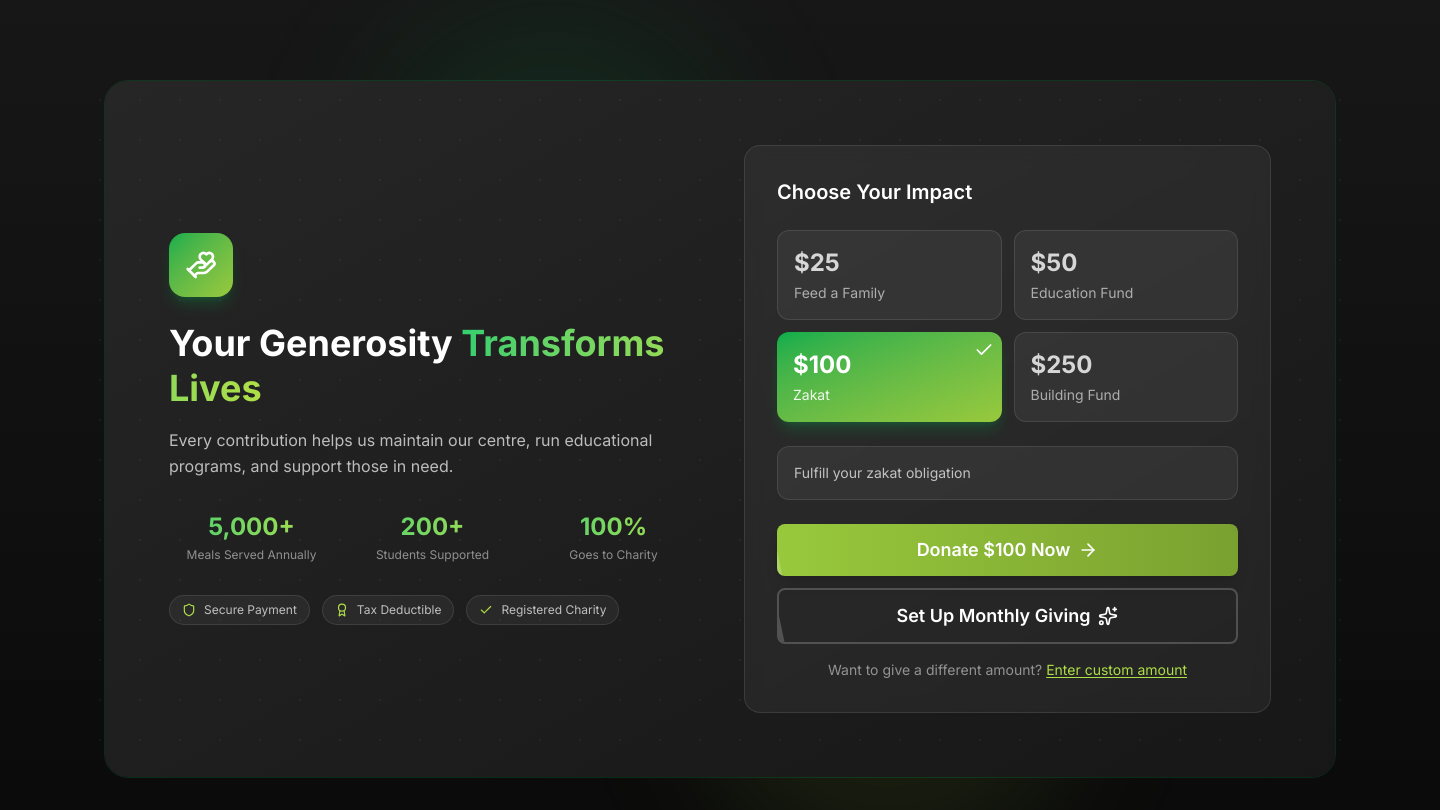
Scenario: DonationCTASection › updates selected amount and description when clicking a different option
This screenshot has width=1440, height=810.
Click the text "$25": (817,262) [794, 248, 840, 277]
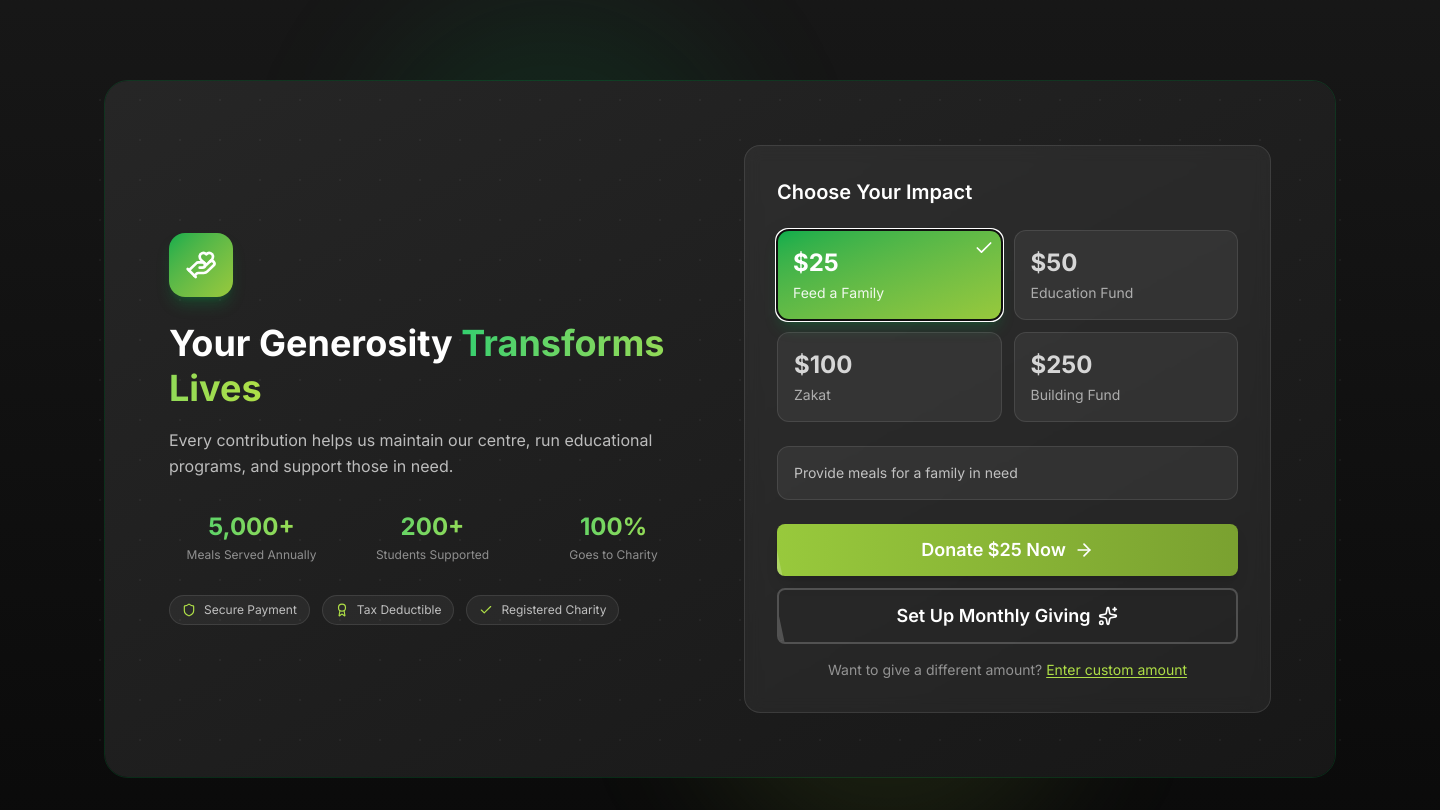
Check: the text "Provide meals for a family in need" is shown, box [794, 464, 1018, 481]
Check: the text "Donate $25 Now" is shown, box [921, 536, 1066, 564]
